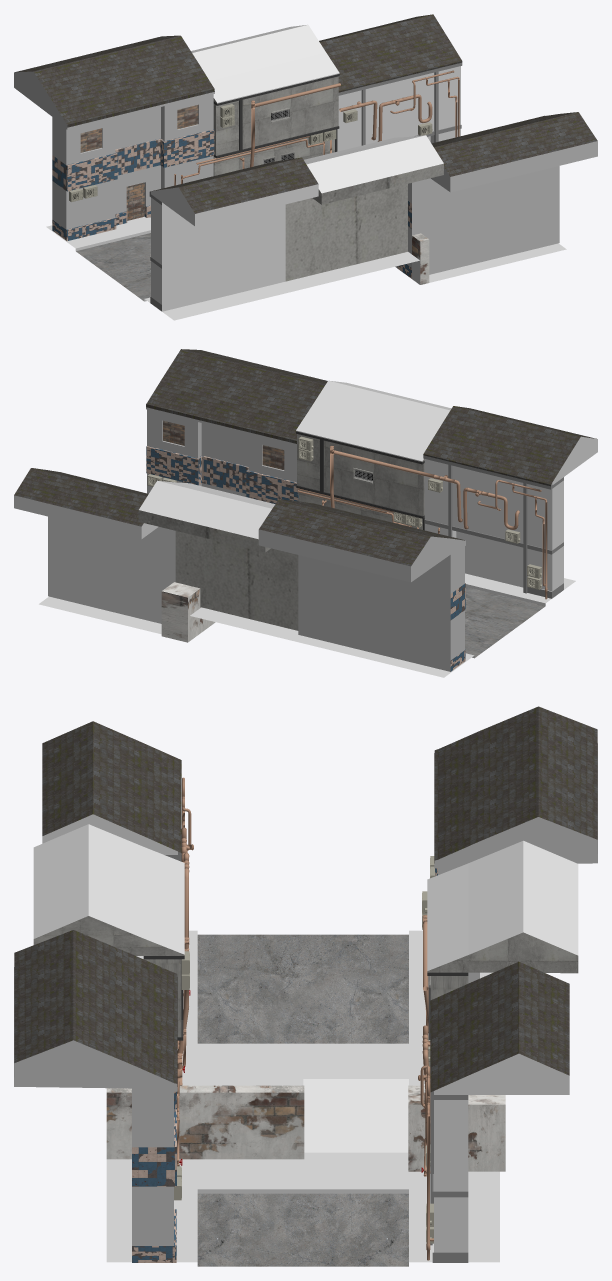
File: up_city.fbx
3 views of the same model, one above another, from view 1: azimuth 30°, elevation 25°; view 2: azimuth 150°, elevation 25°; view 3: azimuth 270°, elevation 25° (orthographic). The views are drawn at different scales.
Visible parts, largest first — view 1: Bat3.005, Bat3.004, Bat2.004, Bat1.007, Bat1.006, Bat2.005, up_path; view 2: Bat3.005, Bat2.004, Bat3.004, Bat1.006, Bat2.005, Bat1.007, up_path; view 3: up_path, Bat3.004, Bat2.005, Bat3.005, Bat1.007, Bat1.006, Bat2.004.
Part boxes in pixels (<box>): Bat3.005: <box>14,35,215,241</box>; Bat3.004: <box>397,112,597,278</box>; Bat2.004: <box>149,157,318,311</box>; Bat1.007: <box>191,25,340,175</box>; Bat1.006: <box>285,135,443,281</box>; Bat2.005: <box>319,14,462,151</box>; up_path: <box>46,216,566,320</box>; Bat3.005: <box>258,499,465,671</box>; Bat2.004: <box>421,406,597,599</box>; Bat3.004: <box>146,349,327,503</box>; Bat1.006: <box>296,380,451,530</box>; Bat2.005: <box>14,468,175,623</box>; Bat1.007: <box>138,480,298,630</box>; up_path: <box>39,573,575,677</box>; up_path: <box>106,930,505,1266</box>; Bat3.004: <box>14,930,182,1262</box>; Bat2.005: <box>418,961,569,1262</box>; Bat3.005: <box>430,706,597,983</box>; Bat1.007: <box>422,840,578,1066</box>; Bat1.006: <box>33,824,189,1085</box>; Bat2.004: <box>42,721,193,995</box>.
Bounding box in the file's own units: 16135 × 6794 × 13513.
